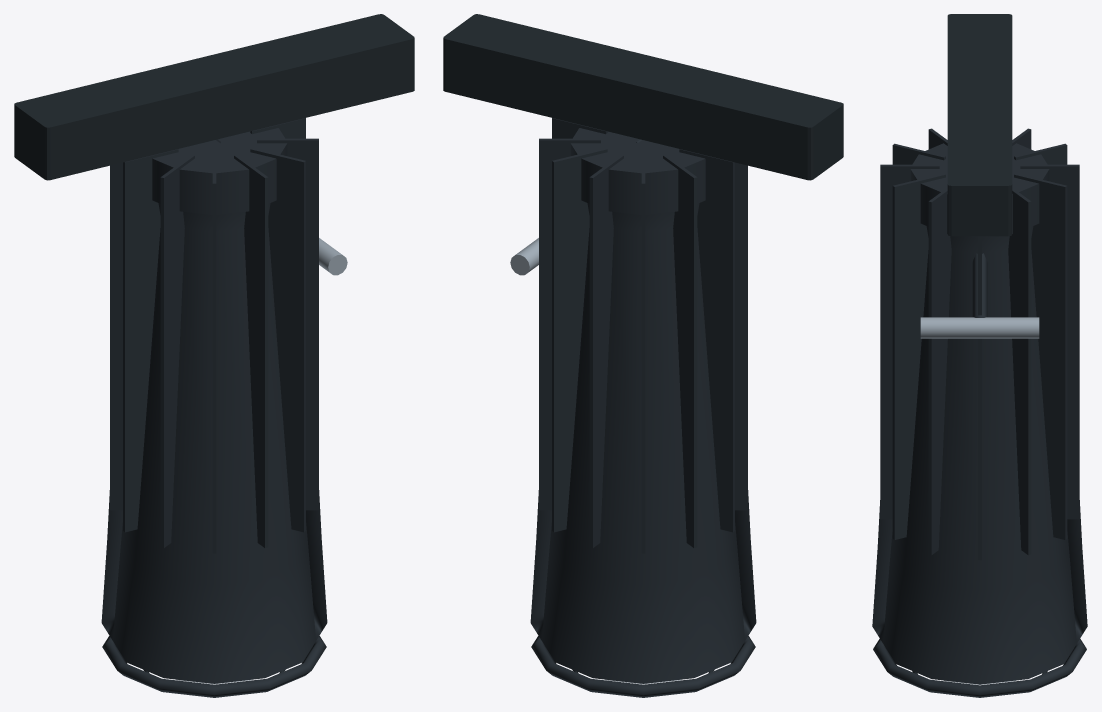
File: source.glb
3 views of the same model, side by side, from view 1: azimuth 30°, elevation 25°; view 2: azimuth 150°, elevation 25°; view 3: azimuth 270°, elevation 25° (orthographic). The views are drawn at different scales.
Parts seen in each view (by area): view 1: 粉末涂层铝壳, 密封及绝缘件, 机加工金属; view 2: 粉末涂层铝壳, 密封及绝缘件, 机加工金属; view 3: 粉末涂层铝壳, 密封及绝缘件, 机加工金属.
Boxes of the visible parts, x1=… form: 粉末涂层铝壳: x1=101, y1=118, x2=327, y2=697; 密封及绝缘件: x1=14, y1=14, x2=414, y2=673; 机加工金属: x1=319, y1=238, x2=347, y2=275; 粉末涂层铝壳: x1=530, y1=118, x2=756, y2=697; 密封及绝缘件: x1=443, y1=14, x2=843, y2=673; 机加工金属: x1=510, y1=238, x2=538, y2=275; 粉末涂层铝壳: x1=872, y1=128, x2=1087, y2=697; 密封及绝缘件: x1=912, y1=14, x2=1047, y2=674; 机加工金属: x1=920, y1=317, x2=1039, y2=338.
Size of the model in its own units: 0.136 by 0.2096 by 0.072.
